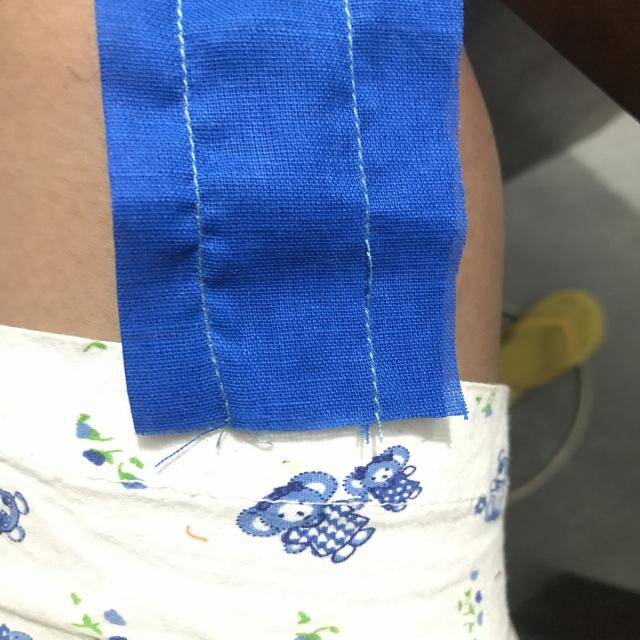good: (344, 120, 382, 201)
skip: (342, 236, 398, 306)
